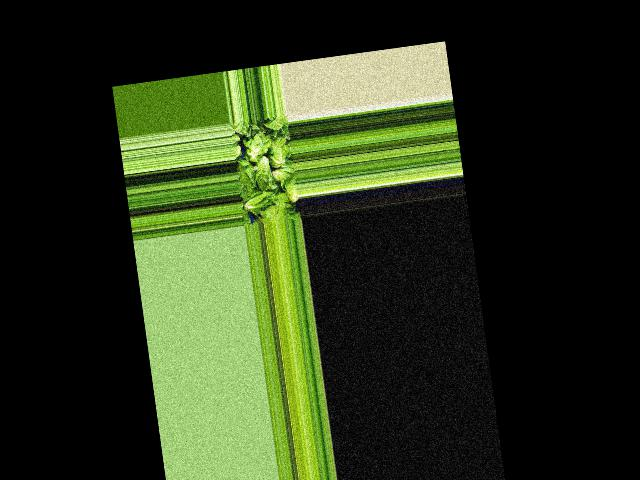lettuce: (281, 172, 299, 208)
